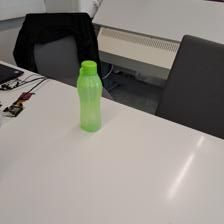bottle: (75, 59, 104, 133)
